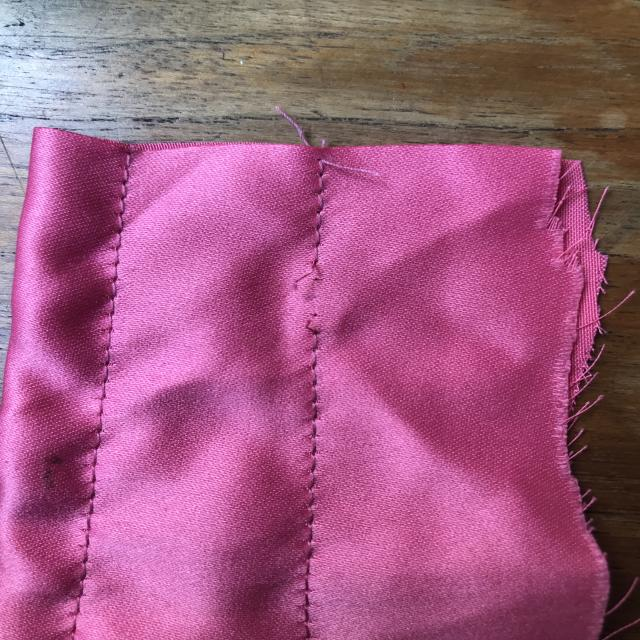broken: (290, 248, 344, 344)
